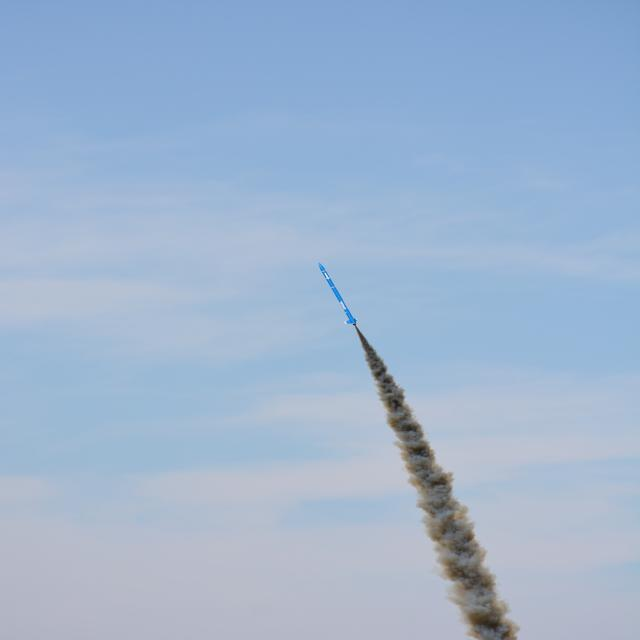Rocket: (318, 262, 358, 326)
